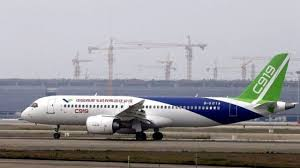maybay_dansu: (17, 67, 300, 136)
